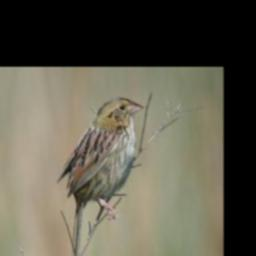Sparrow: (58, 96, 146, 256)
